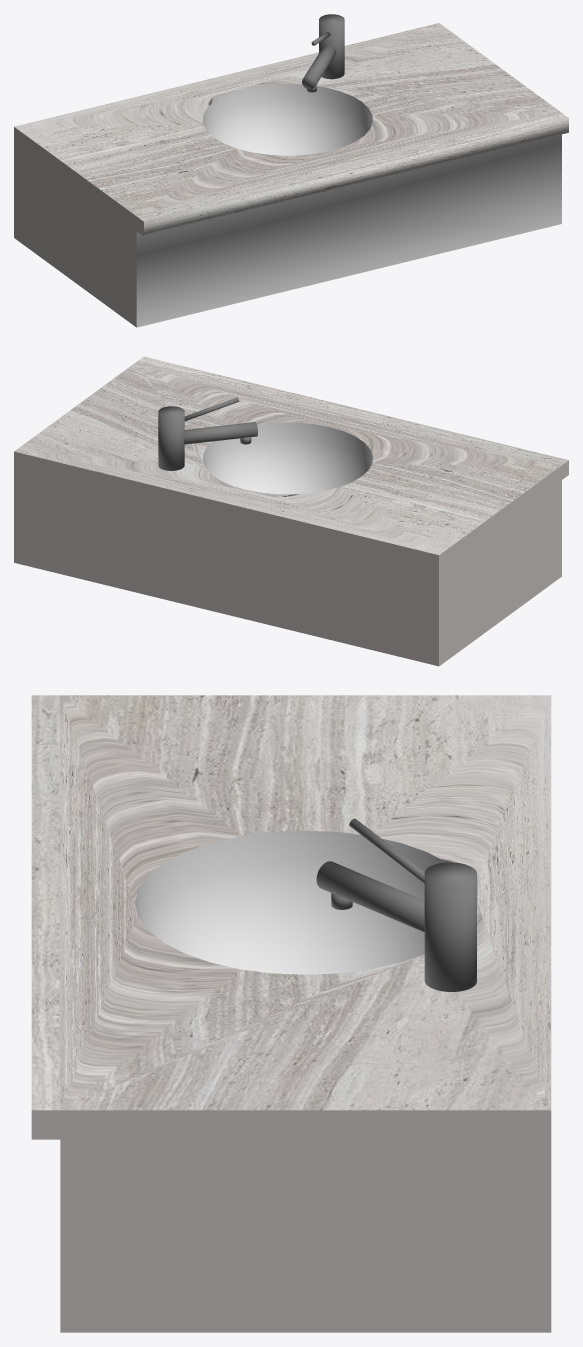
Rendered from lavabo.fbx.
3 renders of one model, top to bottom at view 1: azimuth 30°, elevation 25°; view 2: azimuth 150°, elevation 25°; view 3: azimuth 270°, elevation 25°, orthographic. The views are drawn at different scales.
Parts seen in each view (by area): view 1: Cube, Grifo; view 2: Cube, Grifo; view 3: Cube, Grifo.
Part boxes in pixels (x1,y1,x2,y2): Cube: (14, 23, 568, 327); Grifo: (302, 14, 344, 92); Cube: (14, 356, 568, 666); Grifo: (158, 397, 257, 470); Cube: (31, 695, 551, 1332); Grifo: (316, 818, 476, 991).
Size of the model in its own units: 400 by 154 by 212.
